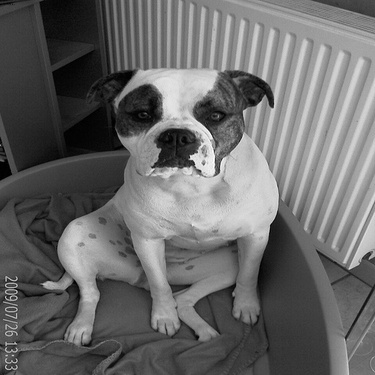dog: (5, 58, 288, 348)
